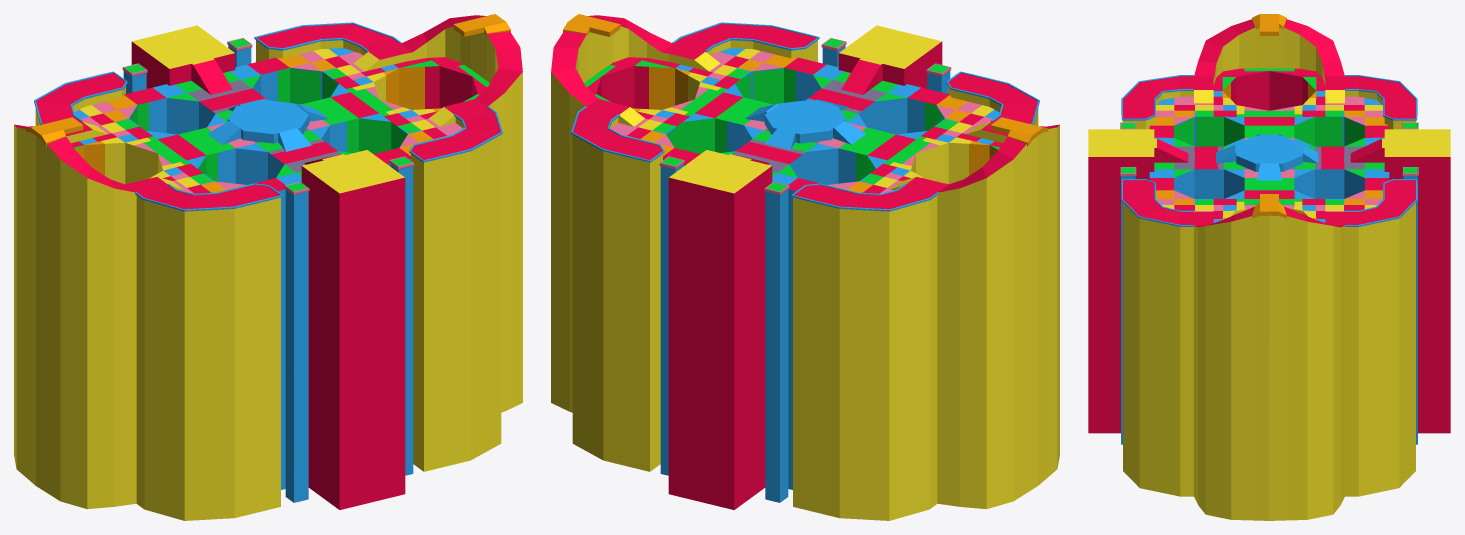
File: visibleFloor.fbx
3 renders of one model, left to right at view 1: azimuth 30°, elevation 25°; view 2: azimuth 150°, elevation 25°; view 3: azimuth 270°, elevation 25°, orthographic. The views are drawn at different scales.
Visible parts, largest first — view 1: Circle.015, Cube.038, Cube.047, Cube.009, Circle.011, Cube.039; view 2: Circle.015, Cube.038, Cube.047, Cube.009, Circle.011, Cube.039; view 3: Circle.015, Cube.047, Cube.038, Cube.009, Circle.011, Cube.039.
Boxes of the visible parts, x1,y1,x2,y2 form: Circle.015: (14,15,522,520); Cube.038: (131,25,405,509); Cube.047: (71,48,489,489); Cube.009: (34,22,502,502); Circle.011: (208,100,328,151); Cube.039: (26,14,510,146); Circle.015: (551,15,1059,520); Cube.038: (668,25,942,509); Cube.047: (584,48,1002,489); Cube.009: (571,22,1039,502); Circle.011: (745,99,865,149); Cube.039: (563,14,1047,146); Circle.015: (1123,19,1415,520); Cube.047: (1149,68,1389,222); Cube.038: (1088,129,1450,433); Cube.009: (1120,75,1418,444); Circle.011: (1216,134,1318,180); Cube.039: (1252,14,1286,218).
Size of the model in its own units: 18307 by 13336 by 14173.
